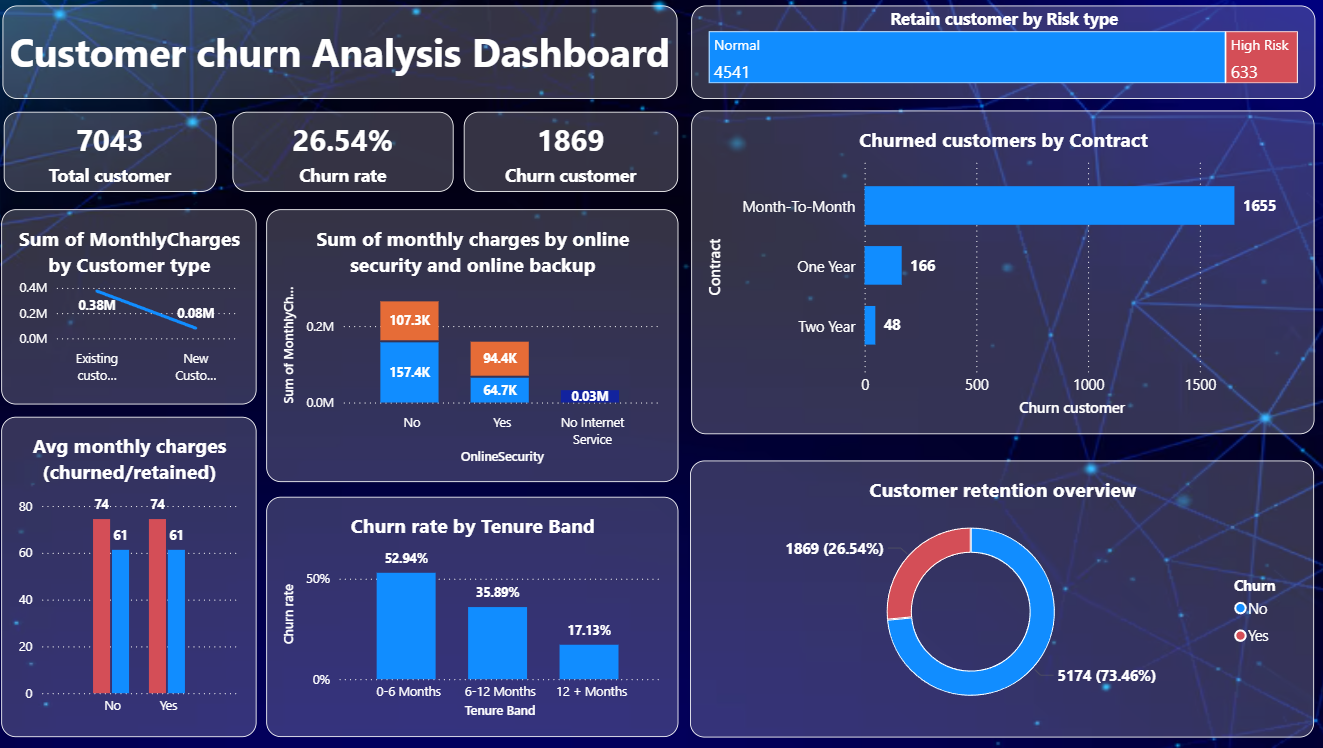

The dashboard page shown, as its layout file describes it:
{"tool":"powerbi","page":{"name":"Page 1","canvas":[1280,720],"ordinal":0},"visuals":[{"type":"textbox","box":[7.3,7.3,647.5,89.4],"z":0},{"type":"treemap","fields":{"Details":["telco_churn_clean.Risk type"],"Values":["Calculated measure.Retain customer"]},"box":[667.2,7.3,598.6,89.4],"z":1000},{"type":"card","fields":{"Values":["Calculated measure.Total customer"]},"box":[7.8,108.5,204,77.1],"z":2000},{"type":"card","fields":{"Values":["Calculated measure.Churn rate"]},"box":[227.5,108.5,211.8,77.1],"z":3000},{"type":"card","fields":{"Values":["Calculated measure.Churn customer"]},"box":[449.8,108.5,205.3,77.1],"z":4000},{"type":"donutChart","title":"Customer retention overview","fields":{"Series":["telco_churn_clean.Churn"],"Y":["Calculated measure.Total customer"]},"box":[666.6,442.9,598.7,265.5],"z":5000},{"type":"barChart","title":"Churned customers by Contract","fields":{"Category":["telco_churn_clean.Contract"],"Y":["Calculated measure.Churn customer"]},"box":[668,108.2,597.3,310.2],"z":5001},{"type":"columnChart","title":"Sum of monthly charges by online security and online backup","fields":{"Category":["telco_churn_clean.OnlineSecurity"],"Series":["telco_churn_clean.OnlineBackup"],"Y":["Sum(telco_churn_clean.MonthlyCharges)"]},"box":[260.2,202.7,394.9,261.5],"z":5002},{"type":"columnChart","fields":{"Category":["telco_churn_clean.Tenure Band"],"Y":["Calculated measure.Churn rate"]},"box":[260.2,478.5,394.9,230.1],"z":5003},{"type":"clusteredColumnChart","title":"Avg monthly charges (churned/retained)","fields":{"Category":["telco_churn_clean.Churn"],"Y":["Calculated measure.Avg montly charges(churned)","Calculated measure.Avg montly charges (retained)"]},"box":[6.5,401.4,244.5,307.3],"z":5004},{"type":"lineChart","fields":{"Category":["telco_churn_clean.Customer type"],"Y":["Sum(telco_churn_clean.MonthlyCharges)"]},"box":[6.5,202.7,244.5,187],"z":5005}]}

Visuals, with their boxes in screenshot pixels (x1, y1, x2, y2), scaled from the page's 1280x720 canvas onto the 1323x748 screenshot:
textbox: bbox(8, 8, 677, 100)
treemap - telco_churn_clean.Risk type x Calculated measure.Retain customer: bbox(690, 8, 1308, 100)
card - Calculated measure.Total customer: bbox(8, 113, 219, 193)
card - Calculated measure.Churn rate: bbox(235, 113, 454, 193)
card - Calculated measure.Churn customer: bbox(465, 113, 677, 193)
"Customer retention overview" donutChart: bbox(689, 460, 1308, 736)
"Churned customers by Contract" barChart: bbox(690, 112, 1308, 435)
"Sum of monthly charges by online security and online backup" columnChart: bbox(269, 211, 677, 482)
columnChart - telco_churn_clean.Tenure Band x Calculated measure.Churn rate: bbox(269, 497, 677, 736)
"Avg monthly charges (churned/retained)" clusteredColumnChart: bbox(7, 417, 259, 736)
lineChart - telco_churn_clean.Customer type x Sum(telco_churn_clean.MonthlyCharges): bbox(7, 211, 259, 405)
